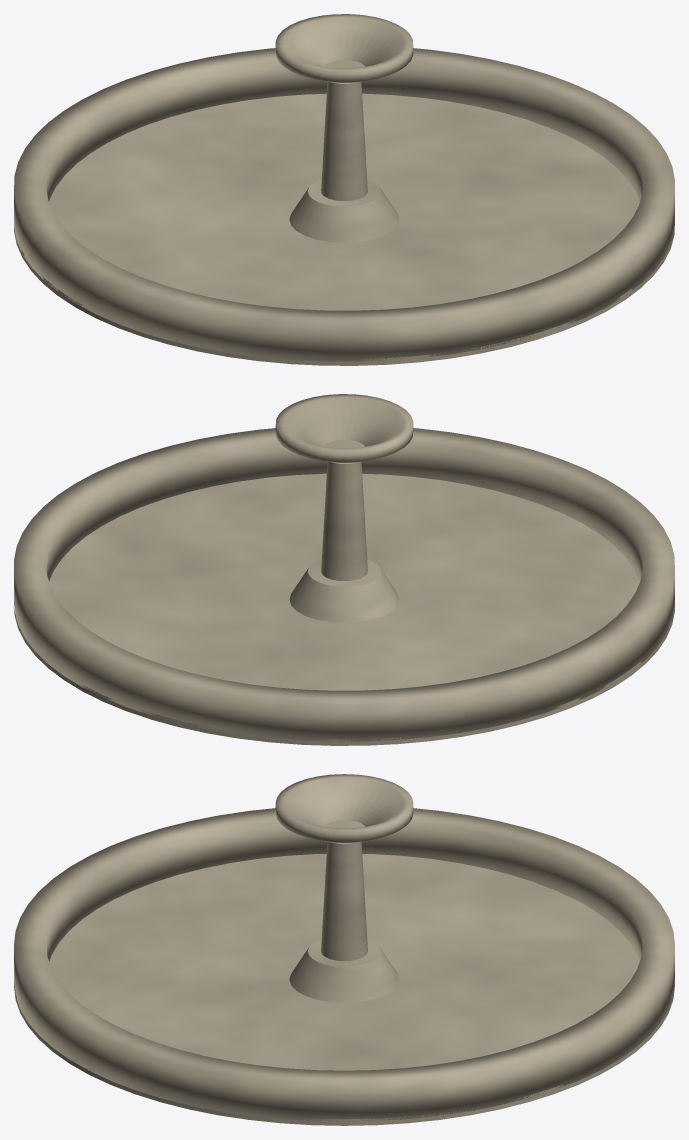
The model's file is Furn_Fountain.fbx.
The picture shows the model from 3 angles, top to bottom: view 1: azimuth 30°, elevation 25°; view 2: azimuth 150°, elevation 25°; view 3: azimuth 270°, elevation 25°; orthographic projection.
Visible parts, largest first — view 1: Furn_Fountain_Mesh; view 2: Furn_Fountain_Mesh; view 3: Furn_Fountain_Mesh.
Boxes of the visible parts, x1,y1,x2,y2 form: Furn_Fountain_Mesh: (14, 14, 674, 365); Furn_Fountain_Mesh: (14, 394, 674, 745); Furn_Fountain_Mesh: (14, 774, 674, 1125).
Bounding box in the file's own units: 7.2 × 2.2 × 7.2.
1 material, 1 textured.
